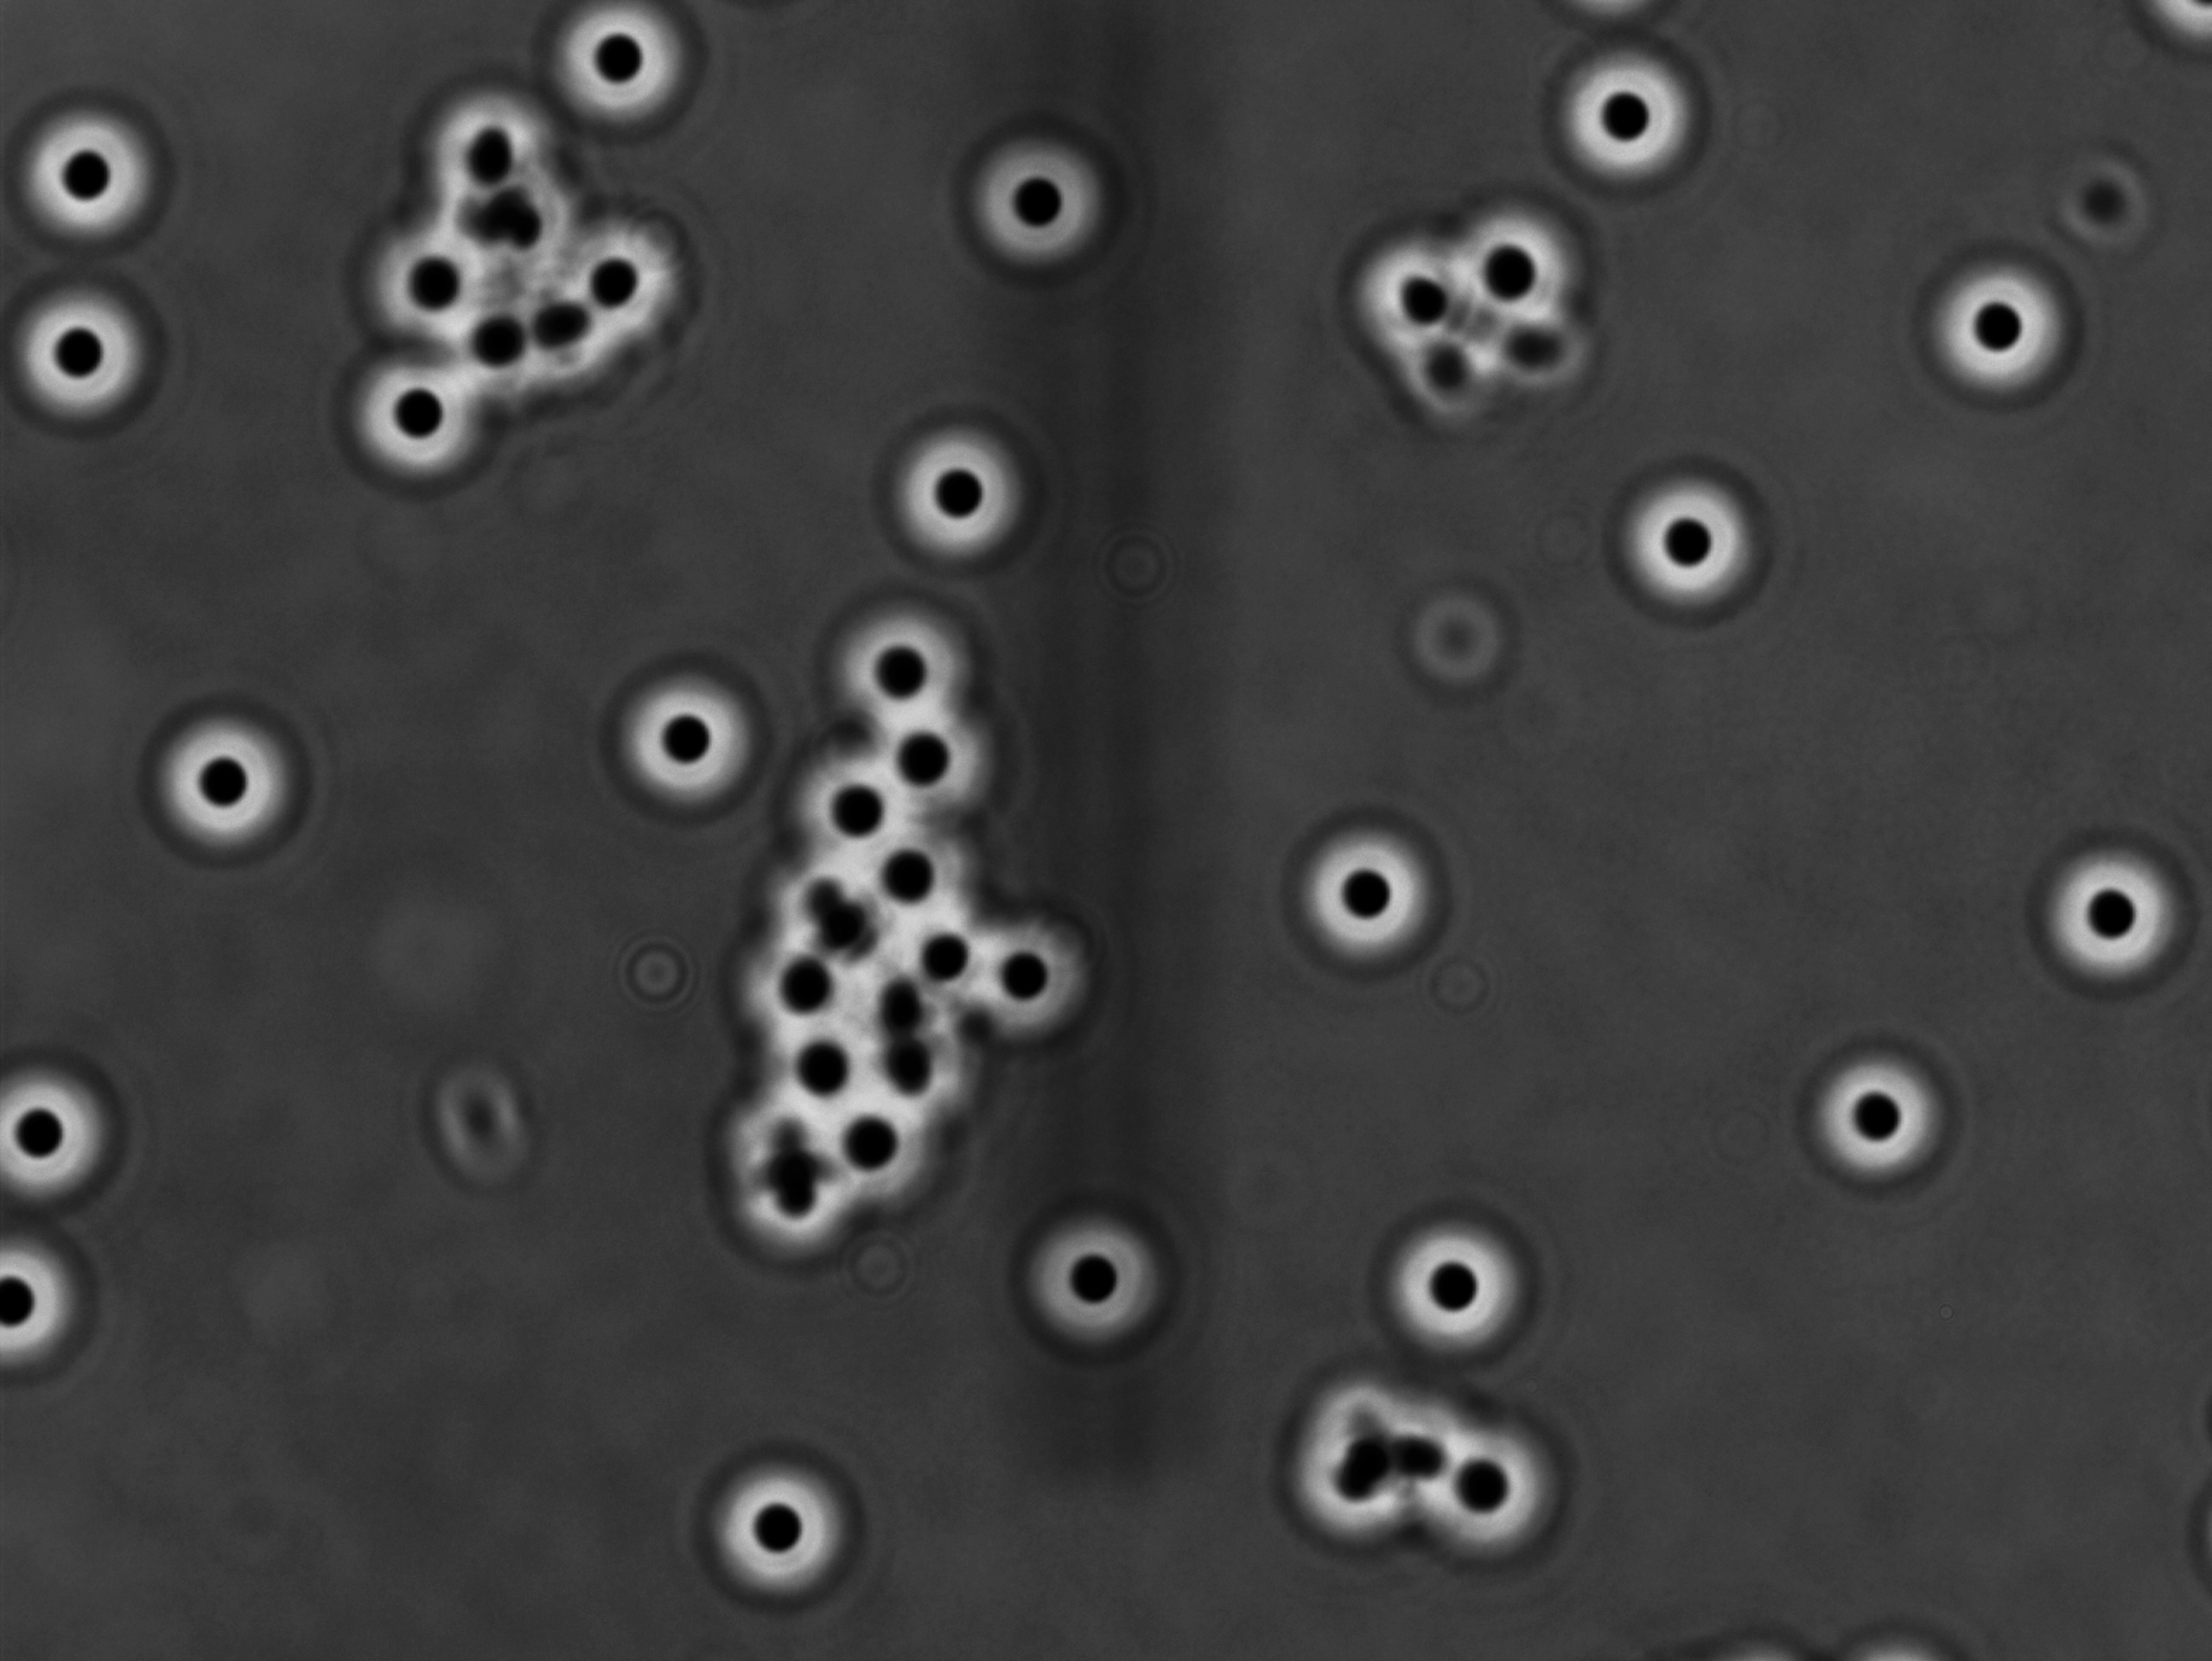depth:-40: (1776, 1026, 1983, 1200), (679, 1429, 872, 1610), (1596, 443, 1783, 625), (2025, 822, 2205, 1008), (1266, 792, 1451, 972), (1900, 239, 2086, 410), (1008, 1200, 1186, 1375), (127, 705, 309, 867), (1540, 37, 1717, 201), (857, 419, 1036, 579), (9, 89, 187, 249), (1366, 1209, 1537, 1370), (951, 117, 1111, 283), (605, 663, 769, 824), (811, 583, 973, 731), (853, 698, 1014, 832)
